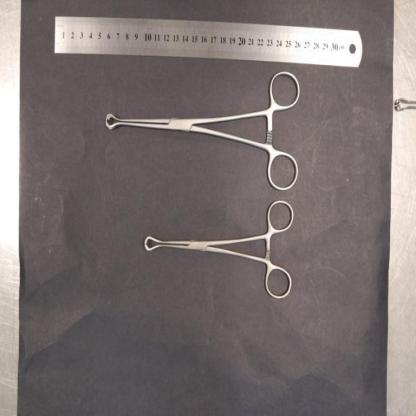8 Babcock Tissue Forceps: (105, 70, 301, 193)
Babcock Tissue Forceps: (144, 198, 294, 300)
